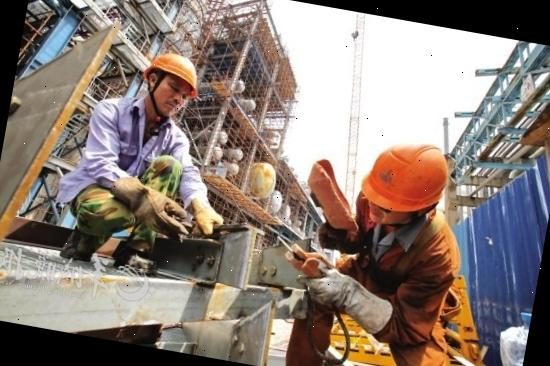helmet: (350, 128, 462, 223), (142, 46, 213, 97)
no_wear: (76, 95, 194, 202)
